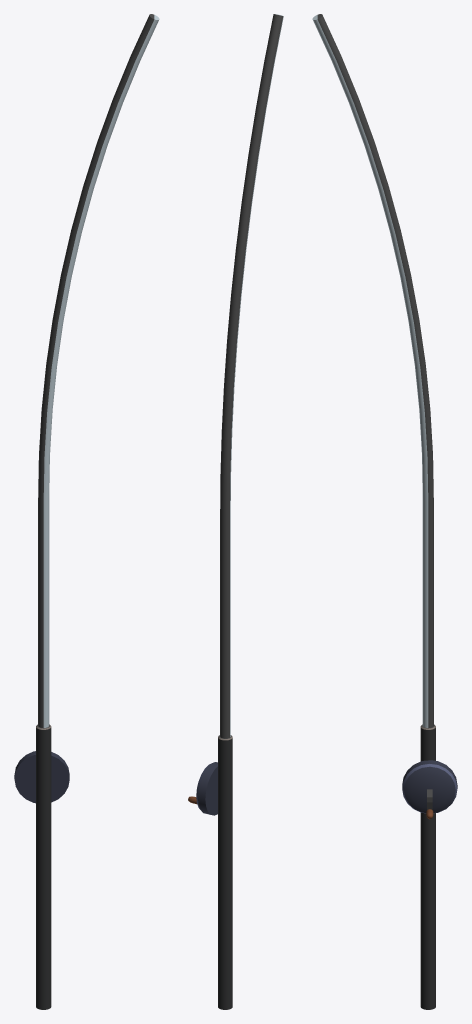
The model's file is FishingRod.fbx.
The picture shows the model from 3 angles, left to right: view 1: azimuth 90°, elevation 25°; view 2: azimuth 150°, elevation 25°; view 3: azimuth 270°, elevation 25°; orthographic projection. The views are drawn at different scales.
Visible parts, largest first — view 1: FishingRod1, RodReel; view 2: FishingRod1, RodReel; view 3: FishingRod1, RodReel.
Boxes of the visible parts, x1,y1,x2,y2 form: FishingRod1: [36, 14, 159, 1009]; RodReel: [14, 751, 69, 803]; FishingRod1: [218, 14, 283, 1009]; RodReel: [196, 762, 217, 815]; FishingRod1: [312, 14, 435, 1009]; RodReel: [402, 760, 457, 813].
Bounding box in the file's own units: 9.06 × 198 × 26.2.
